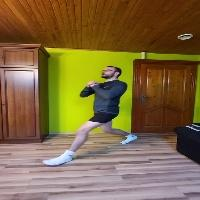lunges: (34, 56, 153, 174)
